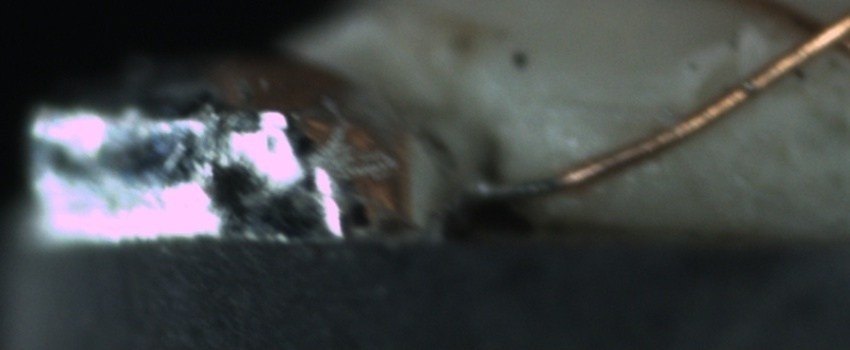CL: (773, 1, 849, 67)
DL: (536, 73, 675, 134)
TS: (479, 174, 559, 204)
